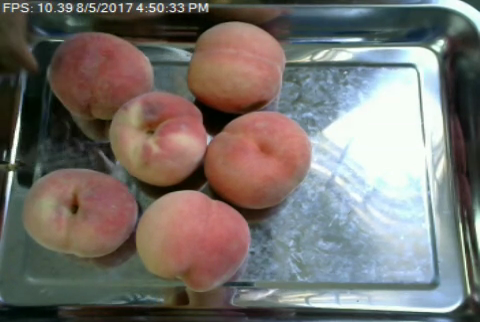Peach: (136, 190, 251, 290), (205, 111, 310, 210), (46, 31, 155, 125), (23, 168, 137, 257), (106, 90, 210, 186), (186, 20, 284, 112)
